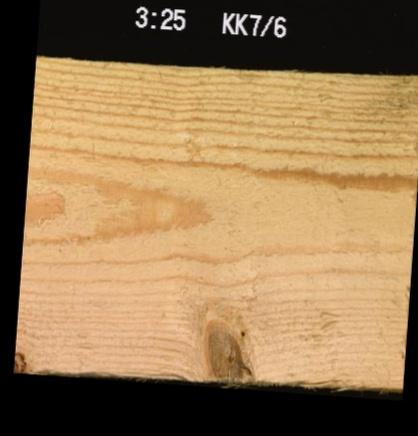edge_knot: (200, 321, 243, 381), (13, 348, 25, 372)
